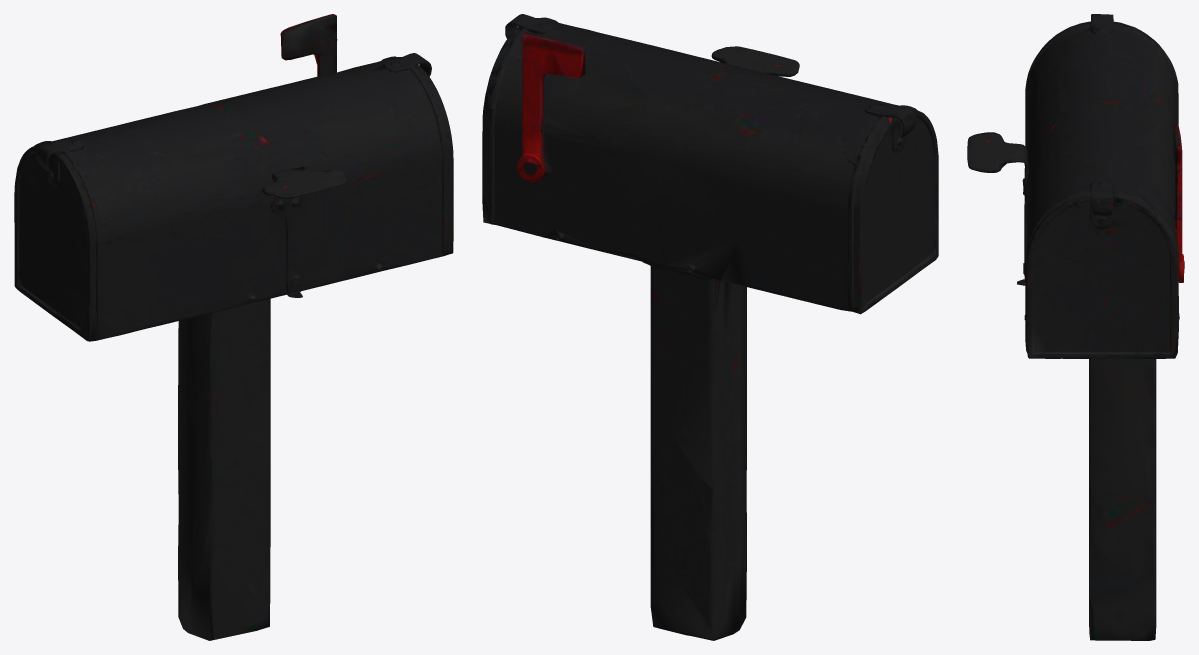
The model's file is mailbox.glb.
The picture shows the model from 3 angles, left to right: view 1: azimuth 30°, elevation 25°; view 2: azimuth 150°, elevation 25°; view 3: azimuth 270°, elevation 25°; orthographic projection. The views are drawn at different scales.
Bounding box in the file's own units: 1.38 × 1.9 × 0.6828.
Materials: 1 (1 with a texture image).
